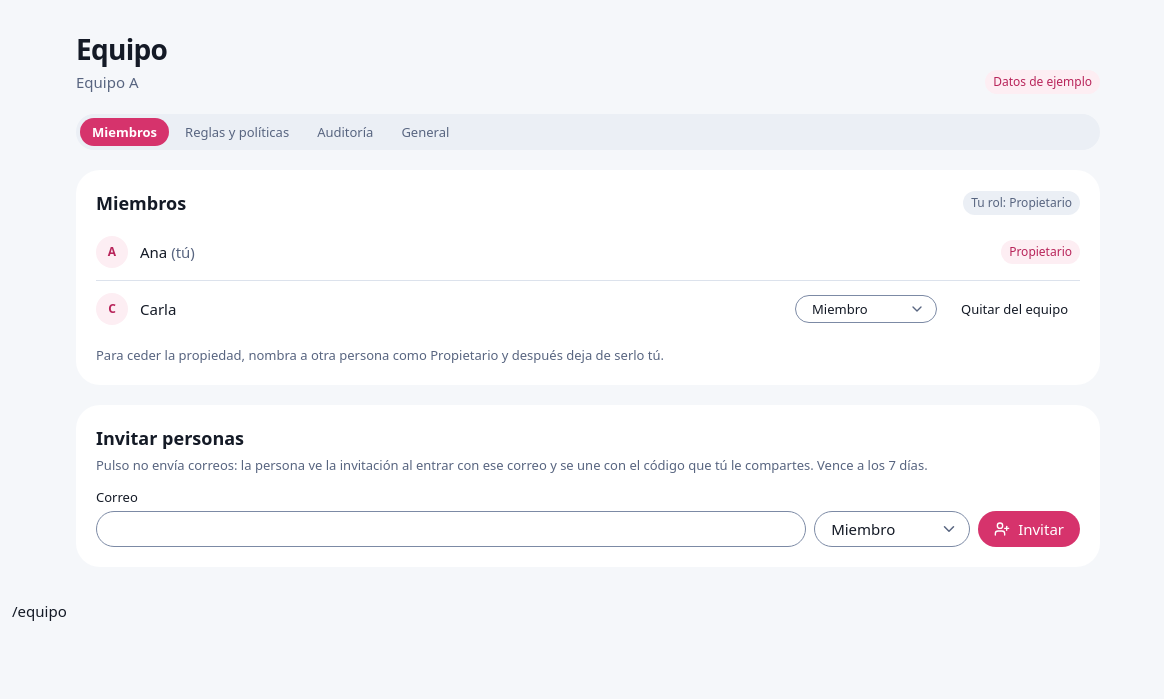
Test case: Auditoría (EQ-10, AC-22) › el filtro por acción pide solo esa acción
The image size is (1164, 699).
Click the tab "Auditoría". click: point(345, 132)
box: [305,118,385,146]
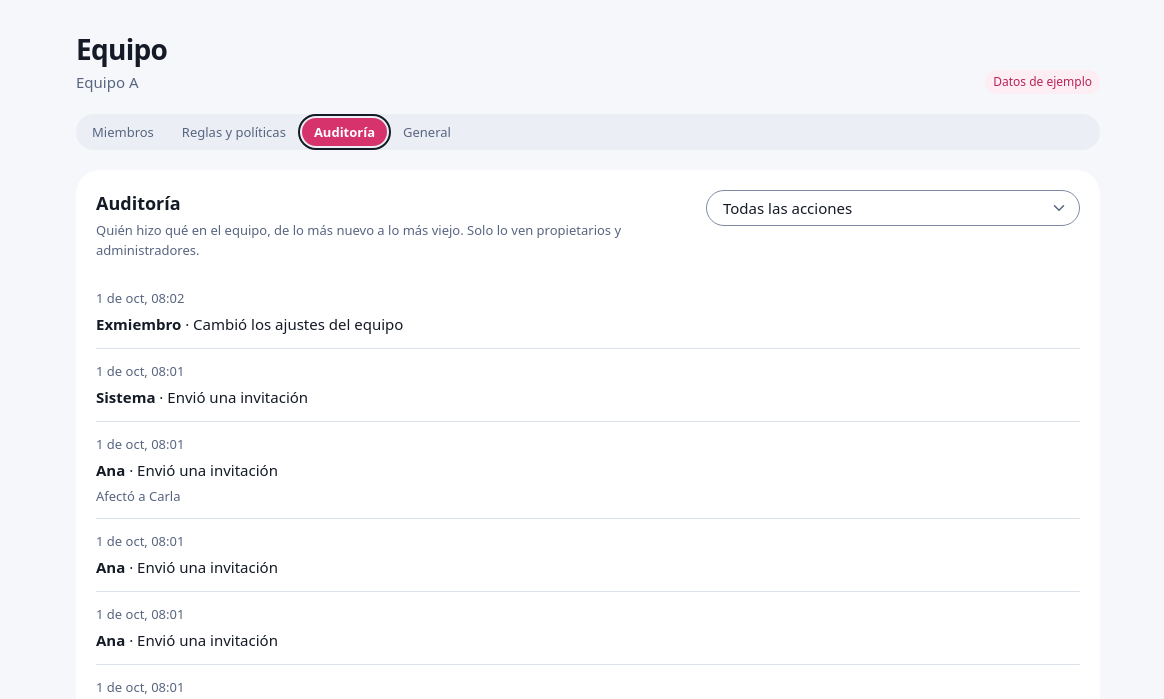
Select "Cambió los ajustes del equipo" in the dropdown named "Filtrar por acción". click: point(893, 208)
box: [706,190,1080,226]
(page scrolled)
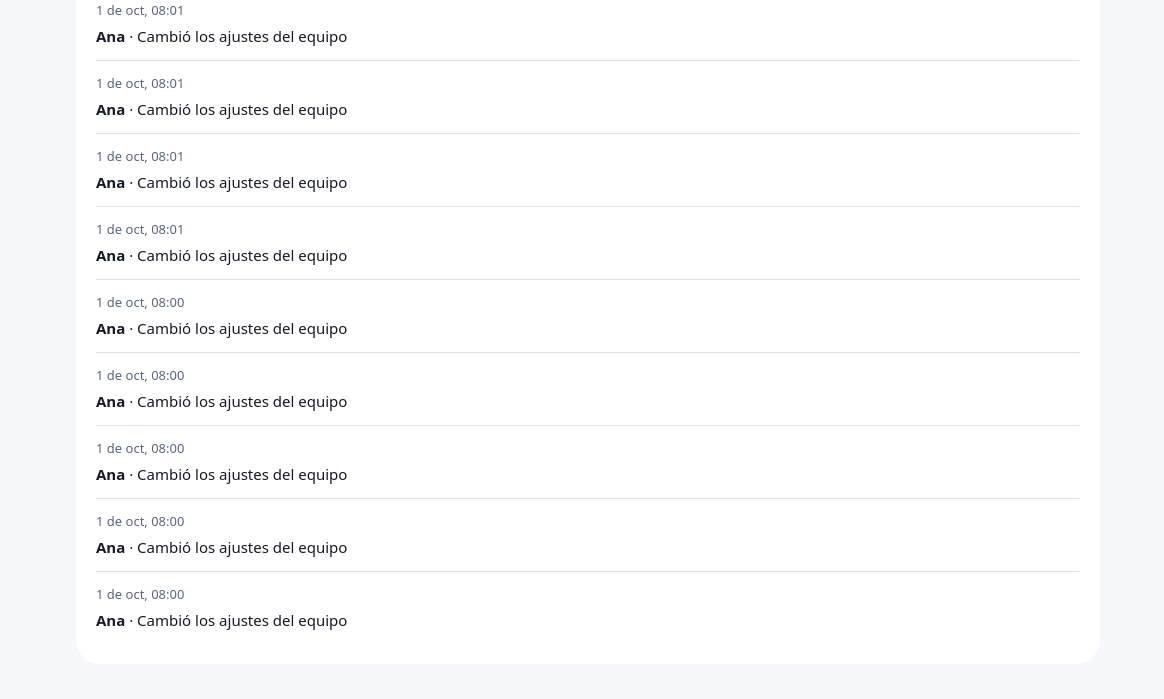
Now the 2nd list item "1 de oct, 08:01 Ana · Cambió los ajustes del equipo" is shown, box [96,61,1080,134]
Now the 3rd list item "1 de oct, 08:01 Ana · Cambió los ajustes del equipo" is shown, box [96,134,1080,207]
Now the number of list items is 12
